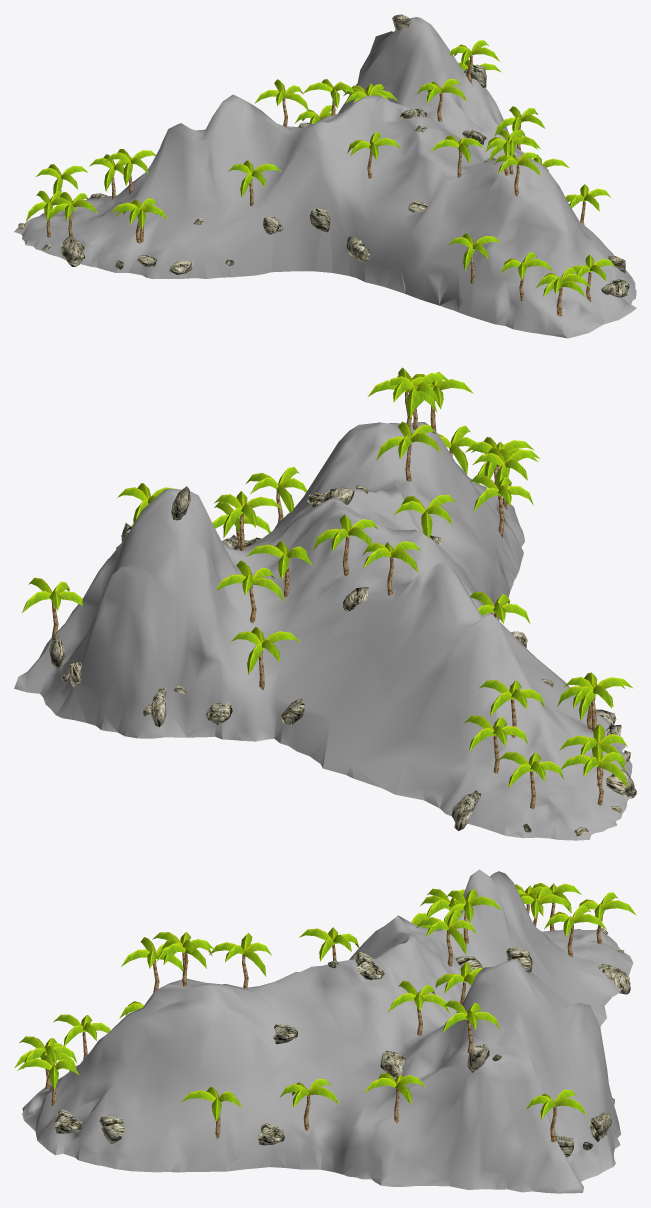
File: island_02.fbx
The picture shows the model from 3 angles, top to bottom: view 1: azimuth 30°, elevation 25°; view 2: azimuth 150°, elevation 25°; view 3: azimuth 270°, elevation 25°; orthographic projection. The views are drawn at different scales.
Visible parts, largest first — view 1: island_02; view 2: island_02; view 3: island_02.
Boxes of the visible parts, x1,y1,x2,y2 form: island_02: (14,14,636,338); island_02: (14,367,636,840); island_02: (14,869,636,1193).
Bounding box in the file's own units: 73.19 × 24.68 × 71.59.
